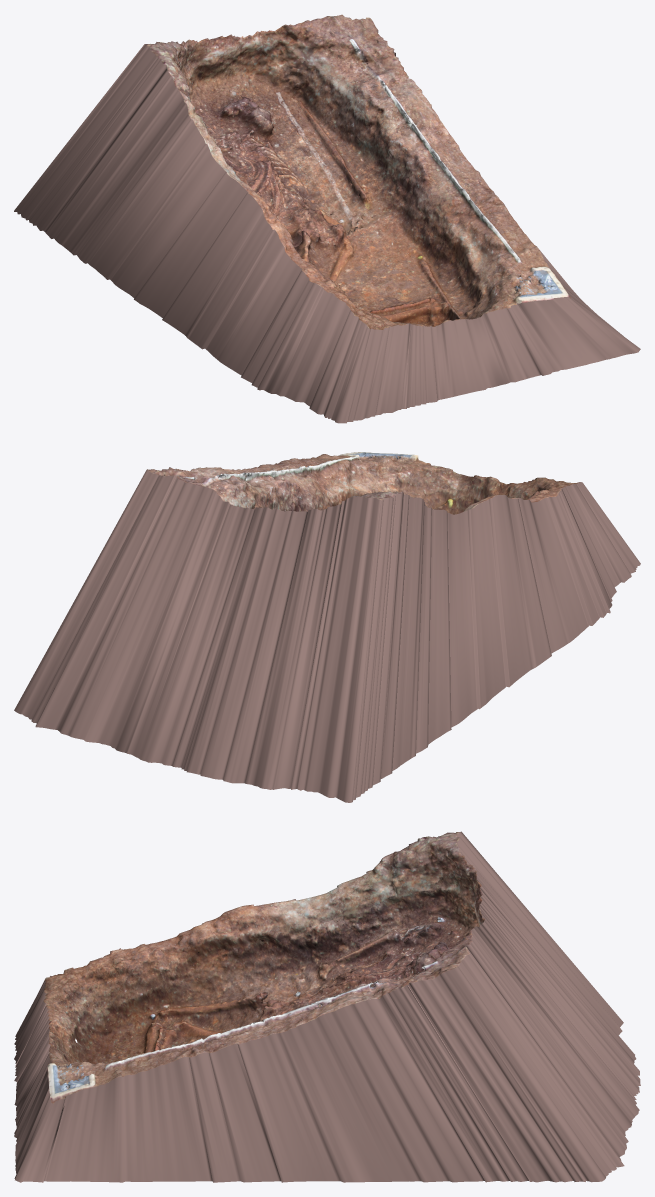
Rendered from esqueleto_export.gltf.
3 views of the same model, one above another, from view 1: azimuth 30°, elevation 25°; view 2: azimuth 150°, elevation 25°; view 3: azimuth 270°, elevation 25° (orthographic). The views are drawn at different scales.
Parts seen in each view (by area): view 1: Cube; view 2: Cube; view 3: Cube.
Boxes of the visible parts, bbox=[...] form: Cube: bbox=[14, 14, 640, 423]; Cube: bbox=[14, 452, 640, 802]; Cube: bbox=[14, 831, 640, 1182].
Bounding box in the file's own units: 1.48 × 0.9136 × 2.42.
Materials: 2 (1 with a texture image).
